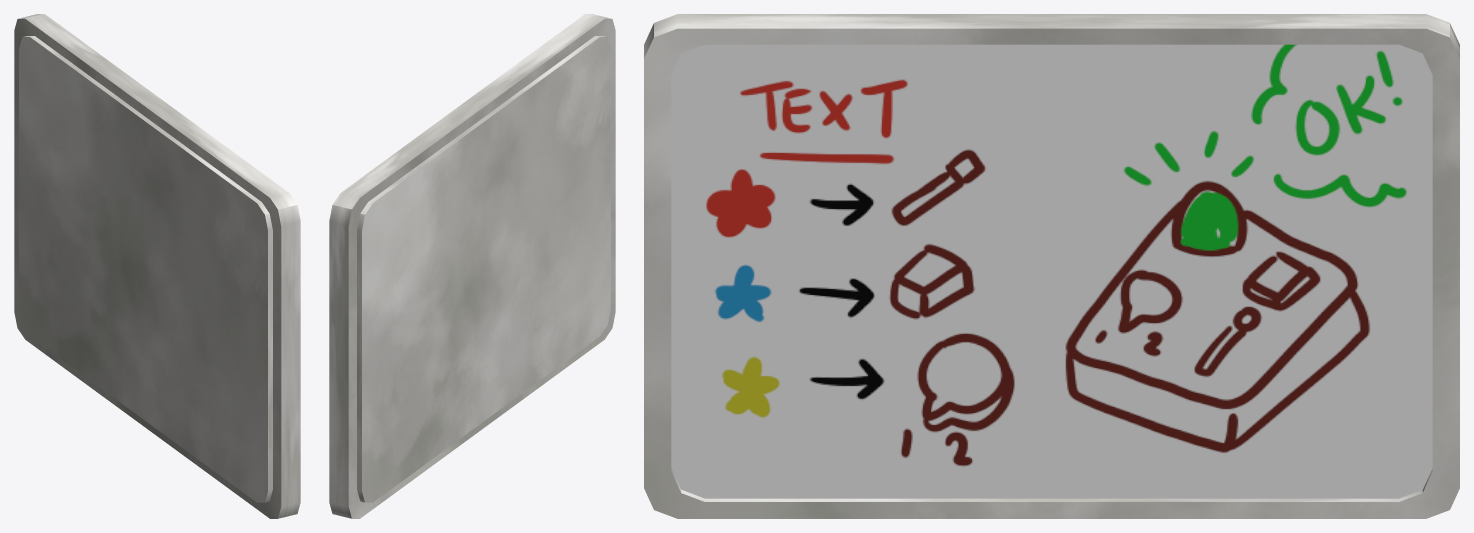
The model's file is Whiteboard.fbx.
3 views of the same model, side by side, from view 1: azimuth 30°, elevation 25°; view 2: azimuth 150°, elevation 25°; view 3: azimuth 270°, elevation 25° (orthographic). The views are drawn at different scales.
Parts seen in each view (by area): view 1: Whiteboard; view 2: Whiteboard; view 3: Whiteboard.
Boxes of the visible parts, bbox=[...] form: Whiteboard: bbox=[14, 14, 300, 518]; Whiteboard: bbox=[329, 14, 615, 518]; Whiteboard: bbox=[644, 14, 1459, 518].
Bounding box in the file's own units: 2.3 × 29.73 × 44.82.
Materials: 1 (1 with a texture image).
